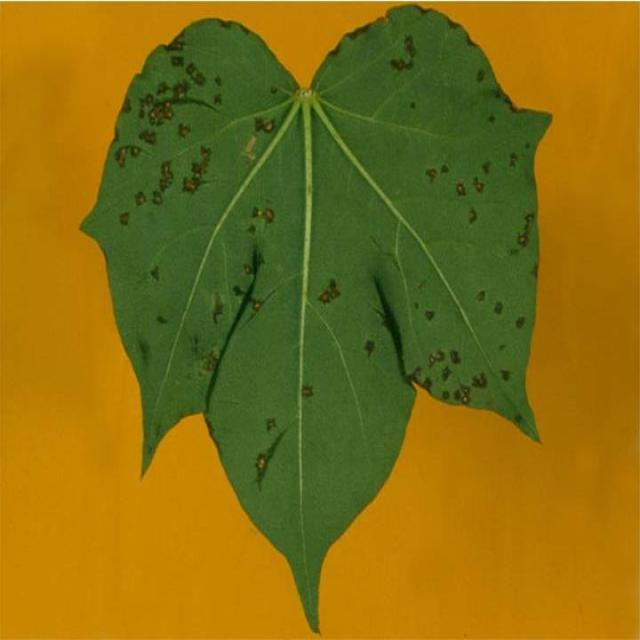Bacterial Blight: (123, 58, 250, 240)
